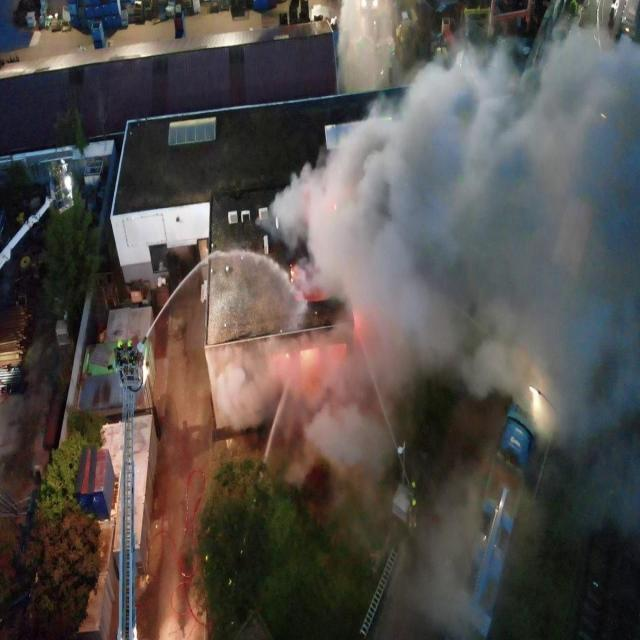Fire: (300, 350, 312, 360), (290, 264, 294, 282), (286, 352, 289, 358)
Smoke: (205, 21, 640, 640)
